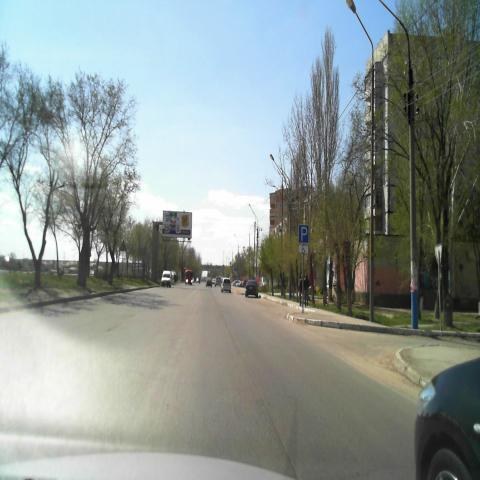8_17: (298, 244, 309, 254)
